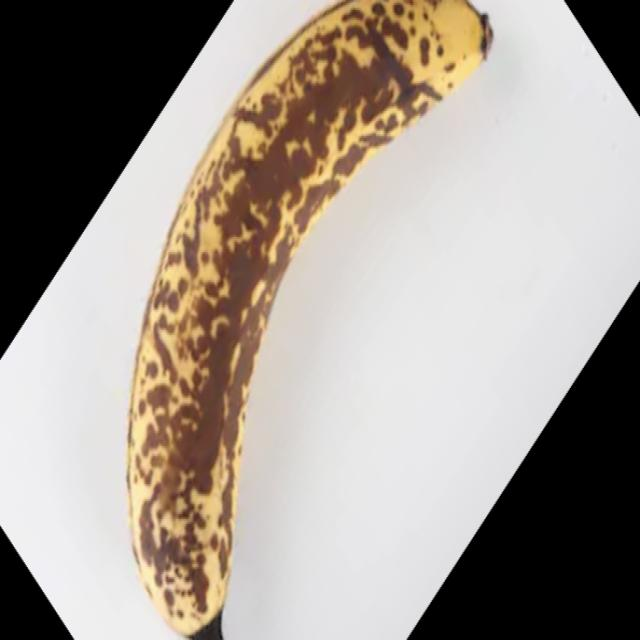overripe: (124, 0, 497, 640)
